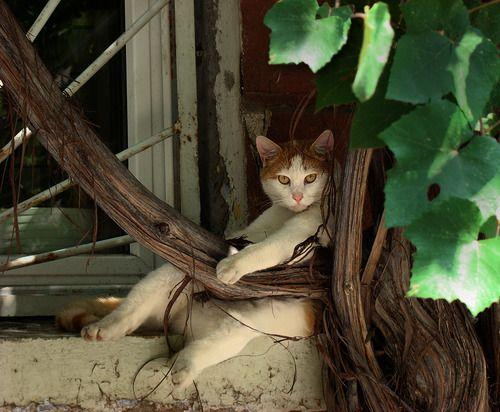kedo: (257, 133, 335, 216)
